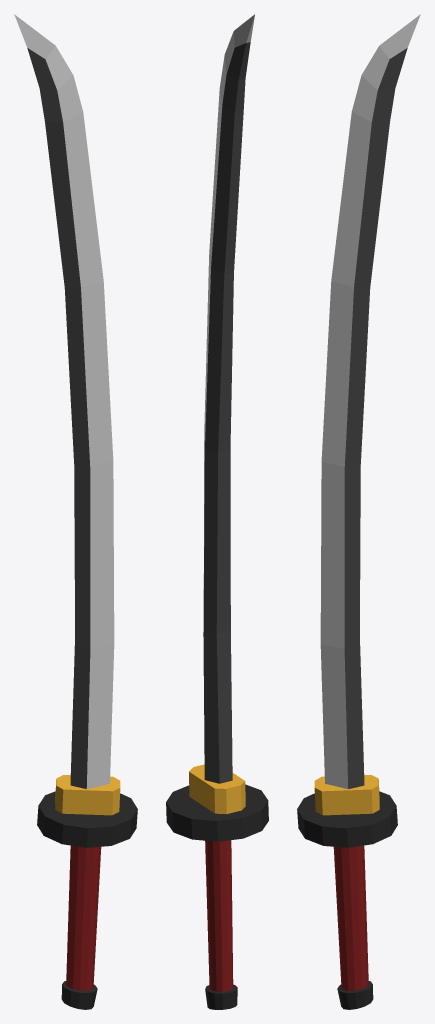
3 renders of one model, left to right at view 1: azimuth 90°, elevation 25°; view 2: azimuth 210°, elevation 25°; view 3: azimuth 270°, elevation 25°, orthographic. The views are drawn at different scales.
Parts seen in each view (by area): view 1: Sword6; view 2: Sword6; view 3: Sword6.
Part boxes in pixels (x1,y1,x2,y2): Sword6: (14, 14, 137, 1009); Sword6: (166, 14, 268, 1009); Sword6: (297, 14, 420, 1009).
Bounding box in the file's own units: 14.72 × 18.3 × 162.
Materials: 1 (1 with a texture image).
